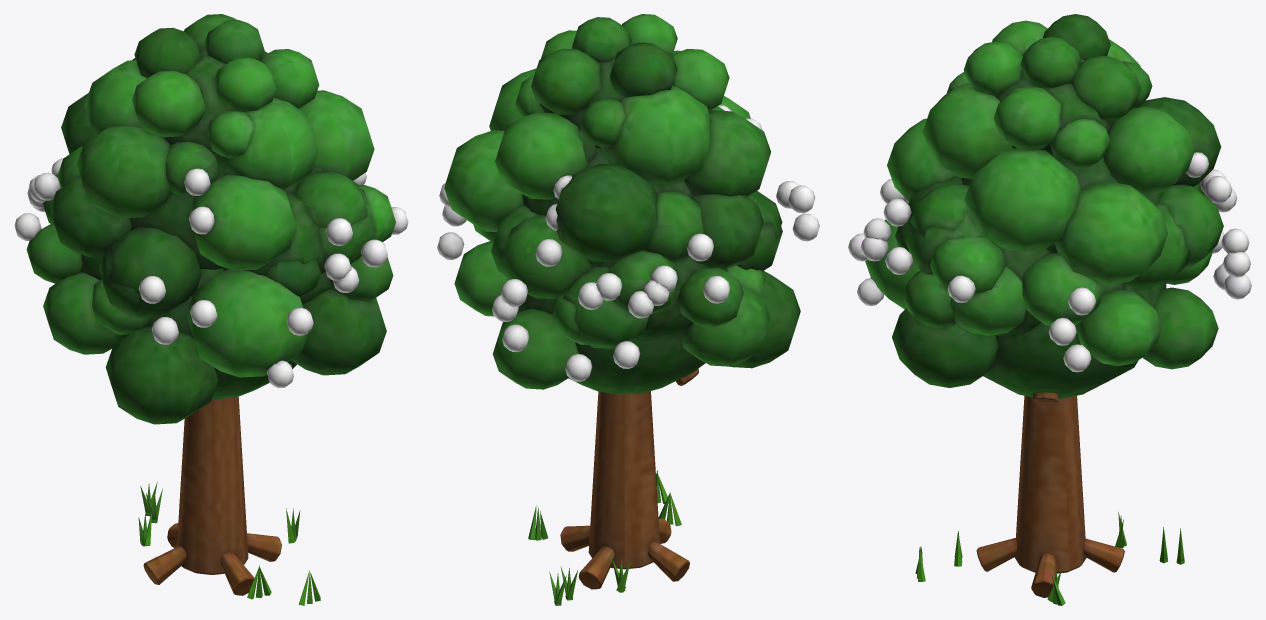
File: chokecherry_tree.glb
The picture shows the model from 3 angles, left to right: view 1: azimuth 30°, elevation 25°; view 2: azimuth 150°, elevation 25°; view 3: azimuth 270°, elevation 25°; orthographic projection.
Parts seen in each view (by area): view 1: crown, chokecherry_tree; view 2: crown, chokecherry_tree; view 3: crown, chokecherry_tree.
Boxes of the visible parts, x1=… form: crown: x1=14, y1=14, x2=408, y2=424; chokecherry_tree: x1=138, y1=396, x2=320, y2=605; crown: x1=437, y1=14, x2=819, y2=394; chokecherry_tree: x1=528, y1=369, x2=698, y2=605; crown: x1=848, y1=14, x2=1251, y2=398; chokecherry_tree: x1=915, y1=392, x2=1184, y2=605.
Size of the model in its own units: 0.9407 by 1.49 by 1.
Materials: 1 (1 with a texture image).
